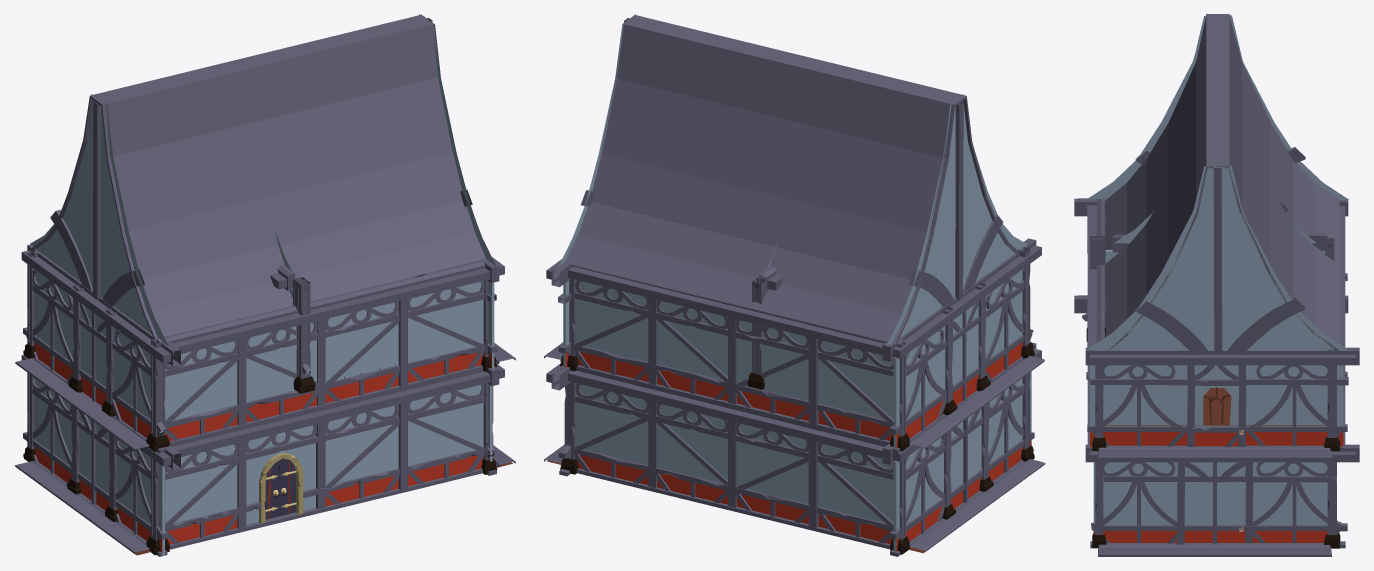
The model's file is SFI_Building2.fbx.
3 views of the same model, side by side, from view 1: azimuth 30°, elevation 25°; view 2: azimuth 150°, elevation 25°; view 3: azimuth 270°, elevation 25° (orthographic). The views are drawn at different scales.
Parts seen in each view (by area): view 1: SFI_Building2; view 2: SFI_Building2; view 3: SFI_Building2.
Boxes of the visible parts, x1,y1,x2,y2 form: SFI_Building2: (15,14,515,556); SFI_Building2: (544,14,1045,556); SFI_Building2: (1074,14,1359,556).
Bounding box in the file's own units: 1439 × 1475 × 1001.
